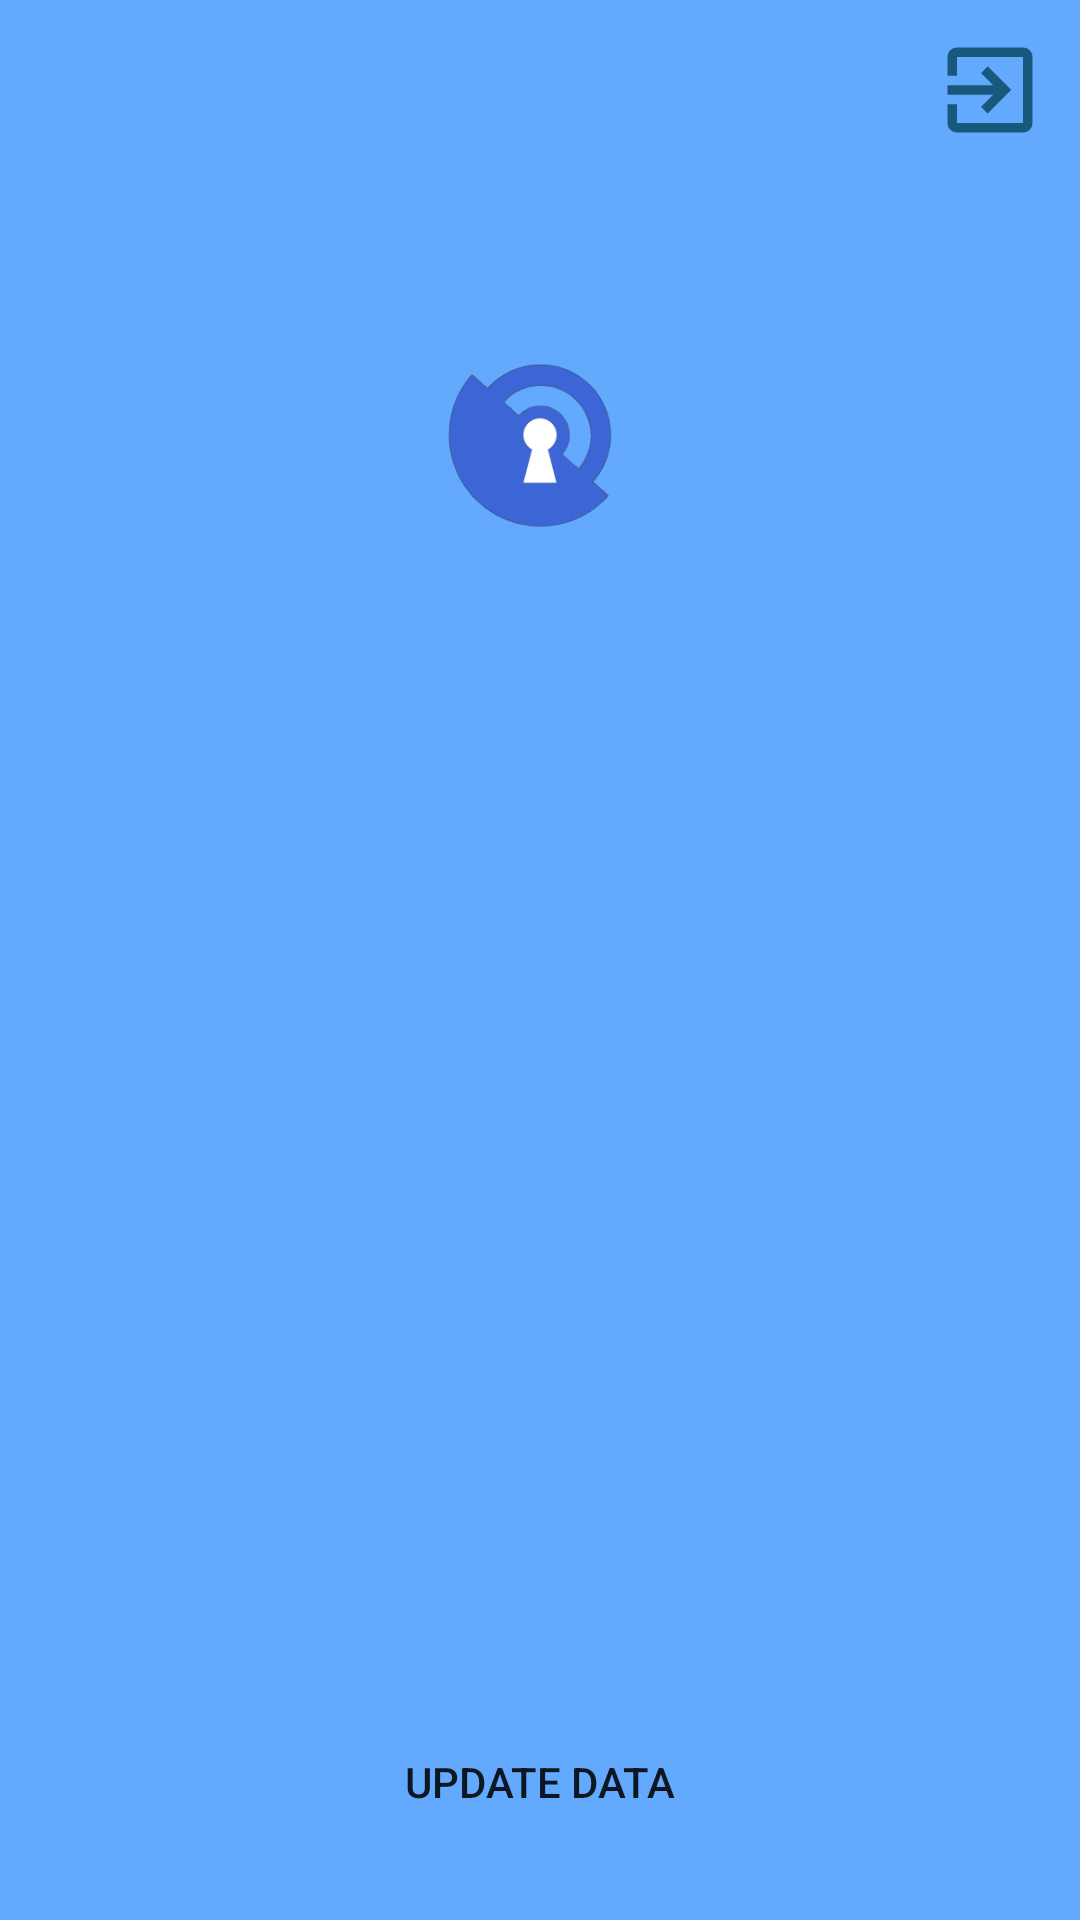

Where to tap for icons on this 1080x1920 app screen, as (x,y):
exit: (990,90)
